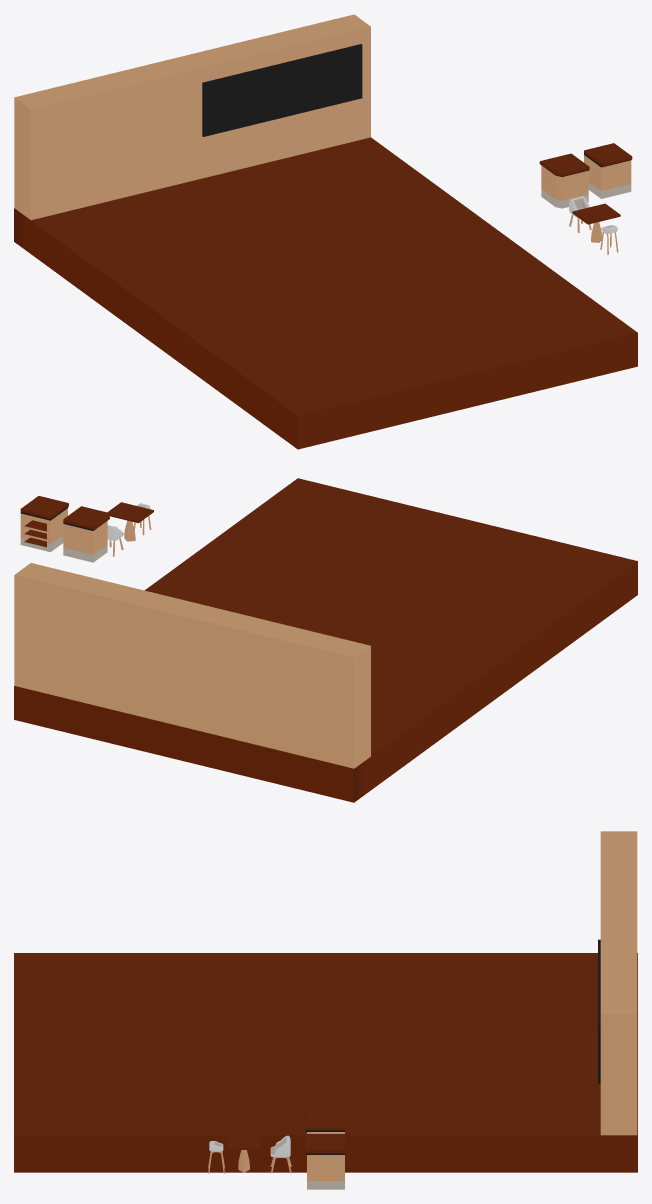
Rendered from BarAssets.fbx.
The picture shows the model from 3 angles, top to bottom: view 1: azimuth 30°, elevation 25°; view 2: azimuth 150°, elevation 25°; view 3: azimuth 270°, elevation 25°; orthographic projection. The views are drawn at different scales.
Parts seen in each view (by area): view 1: Floor, Wall, BlackBoard, BarCounterShelf, BarCounterCorner, Table; view 2: Floor, Wall, BarCounterShelf, BarCounterCorner, Table; view 3: Floor, Wall, BarCounterShelf, BarCounterCorner, Table.
Boxes of the visible parts, x1,y1,x2,y2 form: Floor: (14,137,637,449); Wall: (14,14,370,220); BlackBoard: (202,44,362,136); BarCounterShelf: (584,143,632,198); BarCounterCorner: (539,153,589,208); Table: (572,203,620,242); Floor: (14,478,637,802); Wall: (14,563,370,768); BarCounterShelf: (20,496,68,552); BarCounterCorner: (63,506,109,562); Table: (107,502,153,541); Floor: (14,953,637,1172); Wall: (600,831,637,1135); BarCounterShelf: (305,1134,344,1189); BarCounterCorner: (305,1110,344,1133); Table: (227,1130,260,1172).
Size of the model in its own units: 1667 by 493 by 1756.
